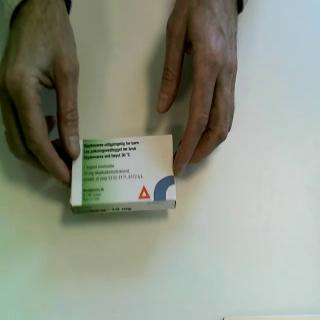oxynorm10mg: (69, 134, 177, 216)
